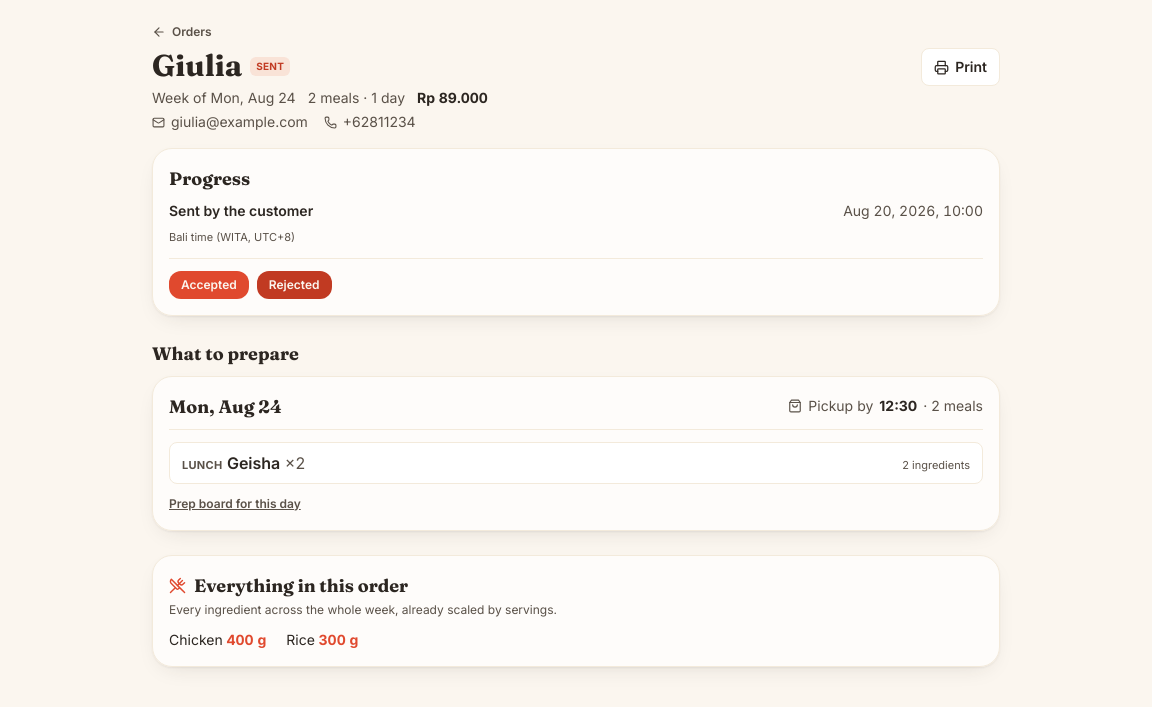
Scenario: what to prepare › scales ingredient grams by servings, like the prep board
This screenshot has width=1152, height=707.
Click the heading "Lunch Geisha ×2 2 ingredients". click: (202, 464)
box: [182,450,970,474]
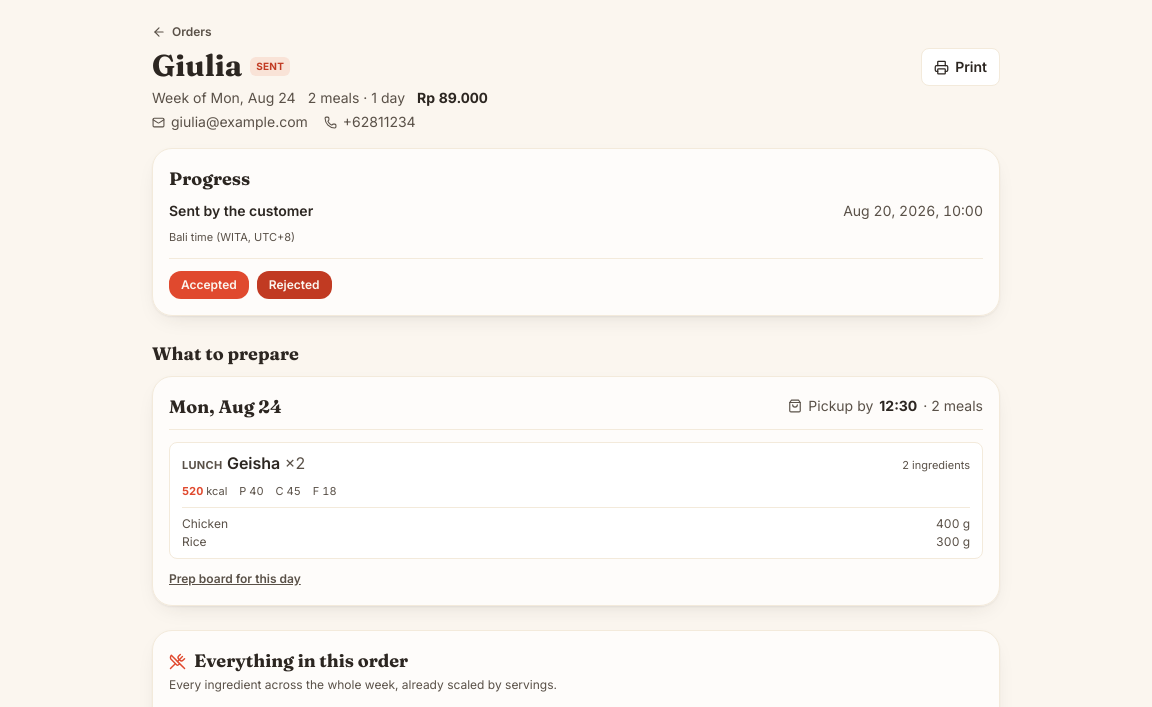
expect the text "Geisha" shows "400 g": met, box [169,442,983,559]
expect the text "Geisha" shows "300 g": met, box [169,442,983,559]
